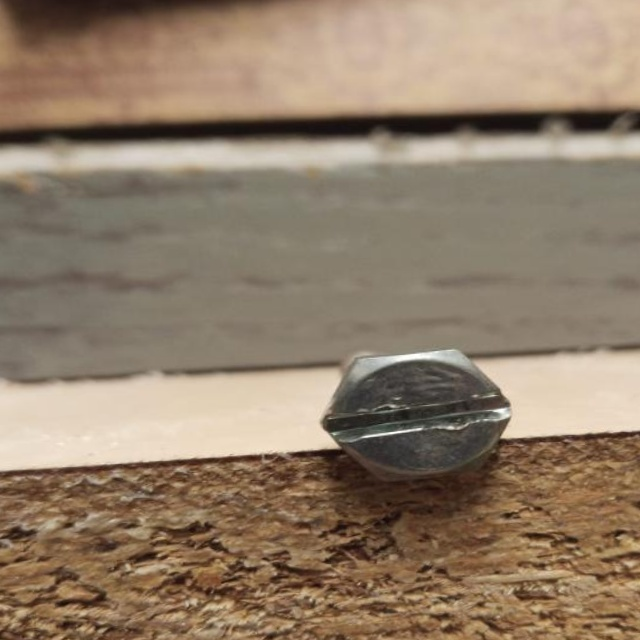duz: (318, 345, 514, 486)
